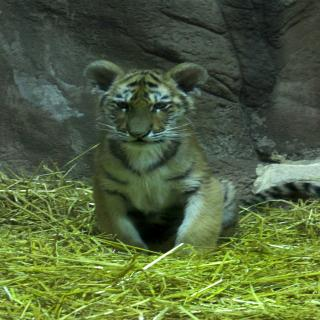Tiger: (84, 63, 320, 261)
